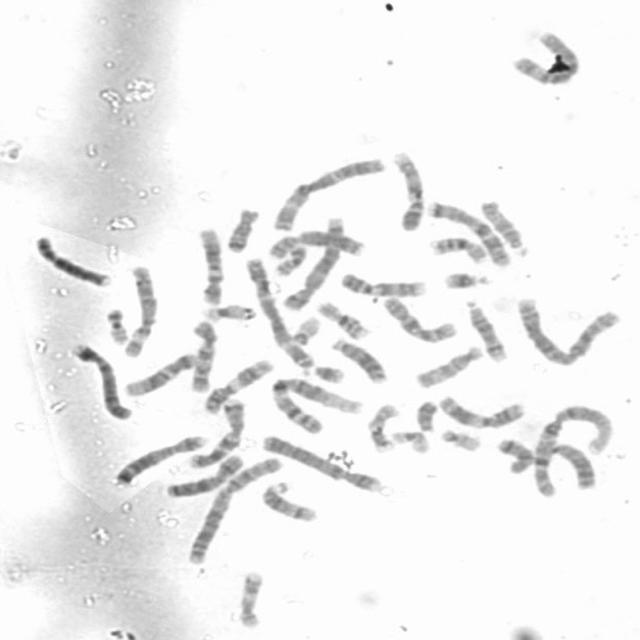A1: (526, 401, 618, 498), (266, 372, 368, 436)
A2: (180, 451, 284, 566), (512, 292, 624, 367)
A3: (268, 153, 389, 232), (241, 252, 317, 372)
B4: (258, 430, 386, 494), (66, 339, 134, 421)
B5: (280, 212, 348, 312), (110, 430, 208, 488)
C10: (377, 292, 459, 344), (186, 315, 220, 394)
C11: (197, 354, 276, 415), (434, 391, 528, 431)
C12: (118, 348, 200, 398), (194, 224, 228, 306)
C6: (506, 27, 583, 87), (118, 261, 160, 359)
C7: (424, 196, 514, 267), (184, 394, 248, 470)
C8: (31, 231, 115, 289), (262, 228, 366, 260)
C9: (388, 148, 428, 232), (335, 268, 429, 299)
D13: (327, 333, 390, 384), (541, 439, 598, 491)
D14: (460, 296, 510, 364), (256, 477, 321, 524)
D15: (410, 340, 486, 390), (476, 195, 532, 257)
E16: (312, 297, 372, 341), (427, 233, 490, 265)
E17: (362, 398, 402, 452), (233, 566, 266, 630)
E18: (222, 203, 262, 254), (492, 433, 536, 475)
F19: (198, 300, 259, 323), (386, 426, 432, 455)
F20: (270, 240, 310, 277), (101, 304, 131, 345)
G21: (439, 267, 492, 290), (304, 360, 347, 384)
G22: (436, 424, 484, 452), (286, 311, 322, 347)
X: (162, 449, 246, 500)
Y: (411, 396, 439, 433)
